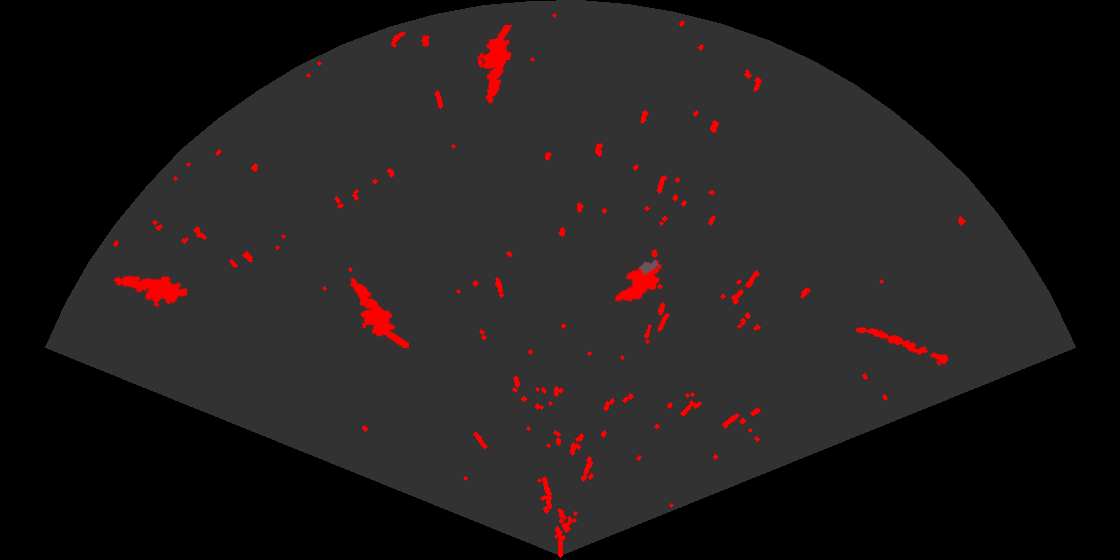AUV: (613, 258, 664, 304)
chain: (854, 326, 950, 366)
frogman: (348, 276, 409, 348), (478, 25, 514, 105), (112, 274, 187, 309)
